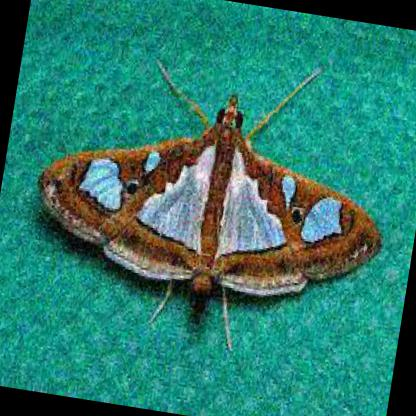Leaf Webber: (35, 92, 375, 308)
